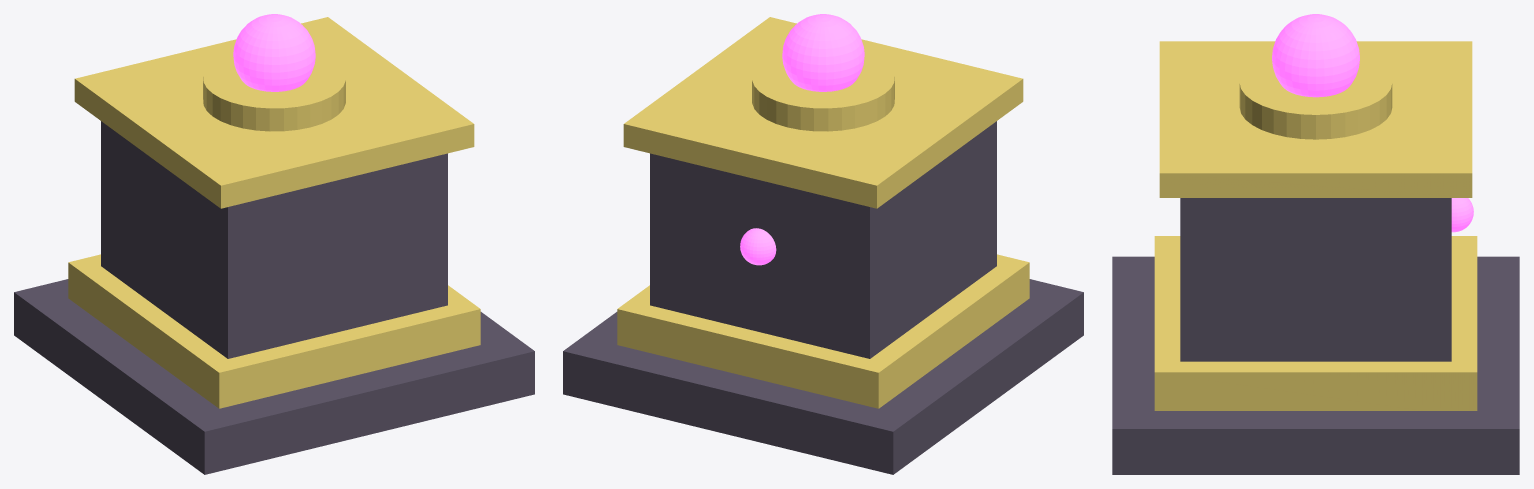
File: altar_hades.glb
3 views of the same model, side by side, from view 1: azimuth 30°, elevation 25°; view 2: azimuth 150°, elevation 25°; view 3: azimuth 270°, elevation 25° (orthographic). The views are drawn at different scales.
Parts seen in each view (by area): view 1: Sphere.001; view 2: Sphere.001; view 3: Sphere.001.
Part boxes in pixels (box(x1,y1,x2,y2)): Sphere.001: box(14, 14, 534, 474); Sphere.001: box(563, 14, 1083, 474); Sphere.001: box(1112, 14, 1519, 474).
Bounding box in the file's own units: 2.4 × 2.41 × 2.4.
